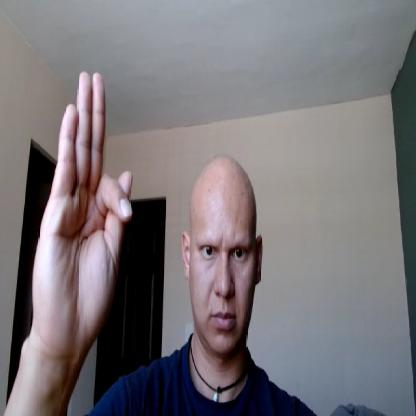F: (34, 71, 134, 349)
